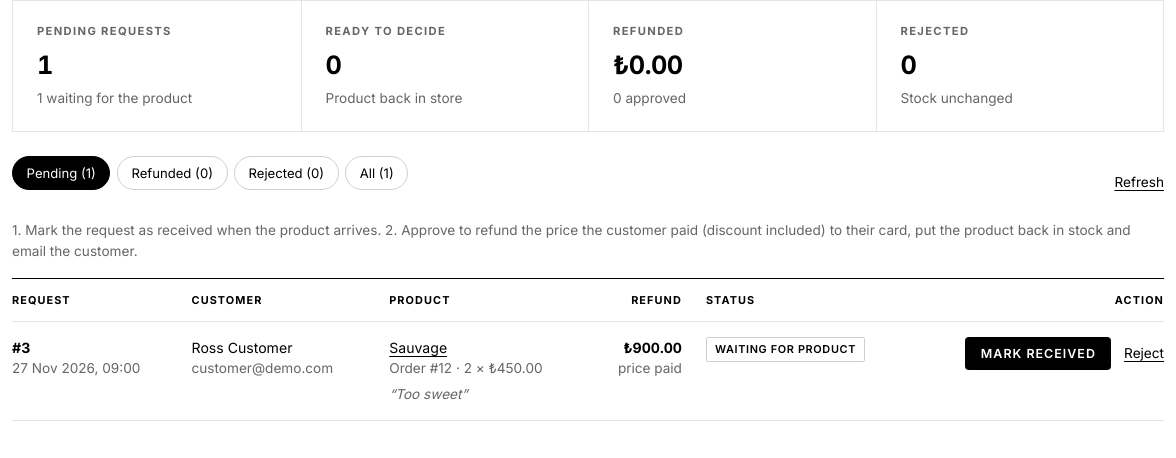
Scenario: sales manager refund tab › rejects without needing the product
This screenshot has width=1176, height=458.
Click the button "Reject".
click(1144, 353)  # box x1=1124 y1=343 x2=1164 y2=364
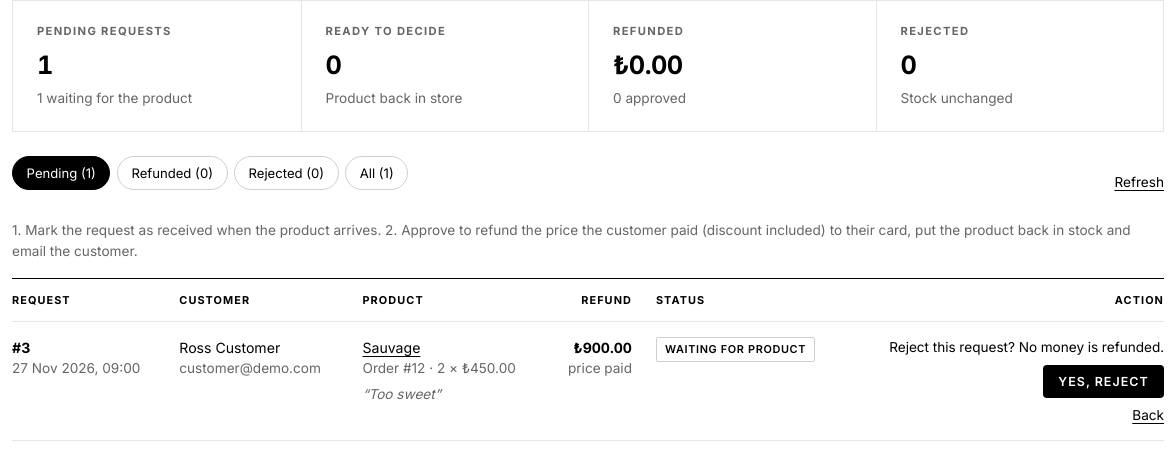
Click the button "Yes, reject".
click(1103, 381)  # box x1=1043 y1=365 x2=1164 y2=398
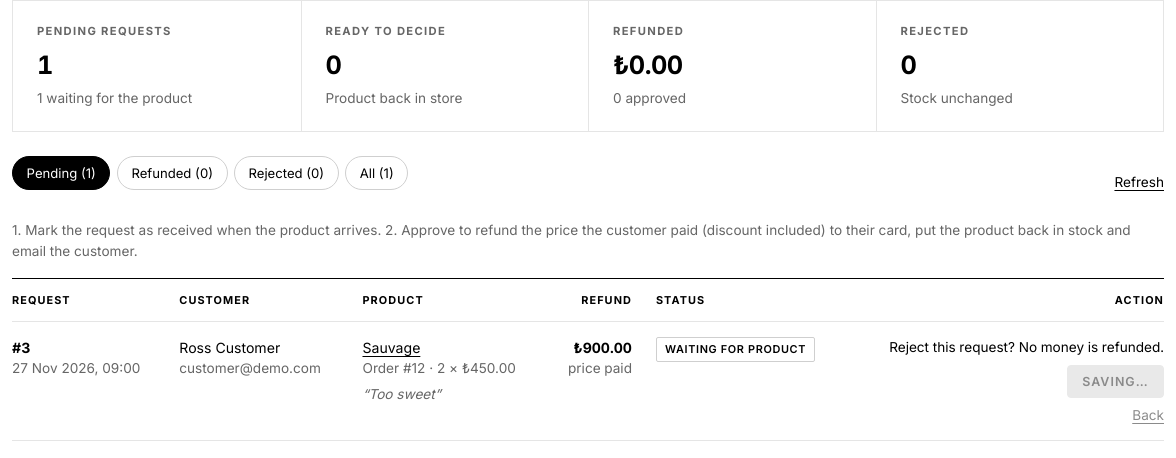
Click the tab "Rejected (0)".
click(286, 173)  # box x1=234 y1=156 x2=339 y2=190
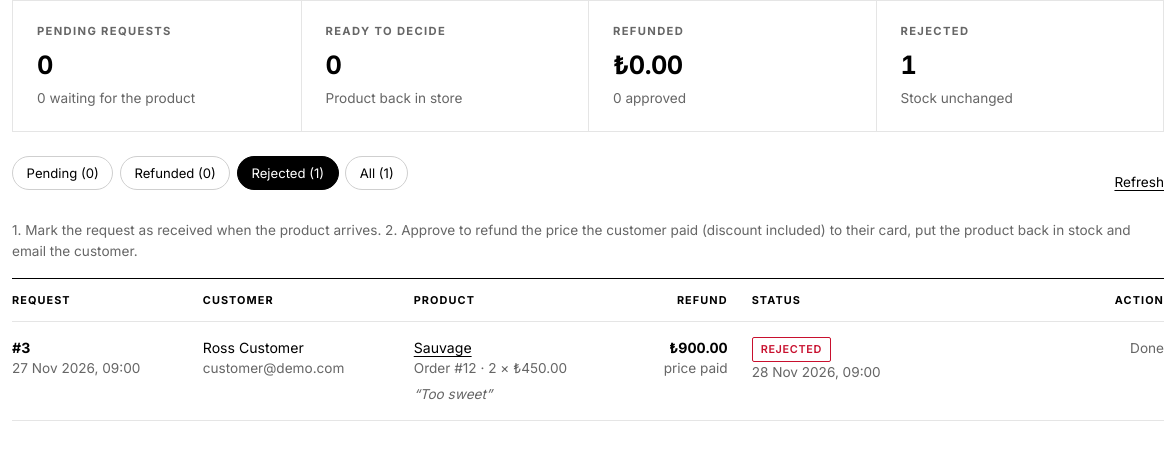
Expected: the text "Rejected" in the row of "Ross Customer" is shown, x1=761 y1=342 x2=822 y2=356
